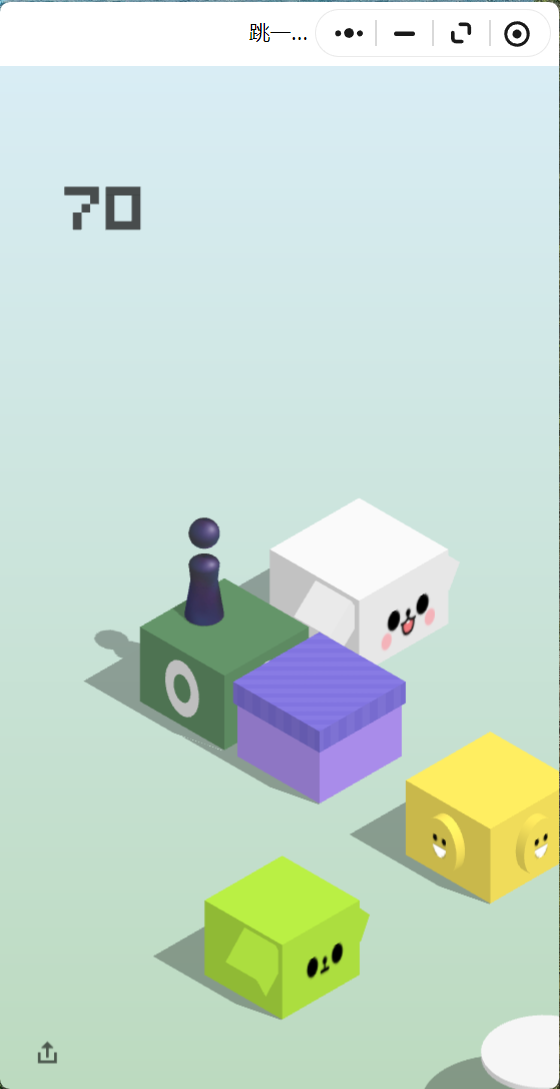piece: (189, 518, 219, 622)
target: (270, 498, 449, 600)
